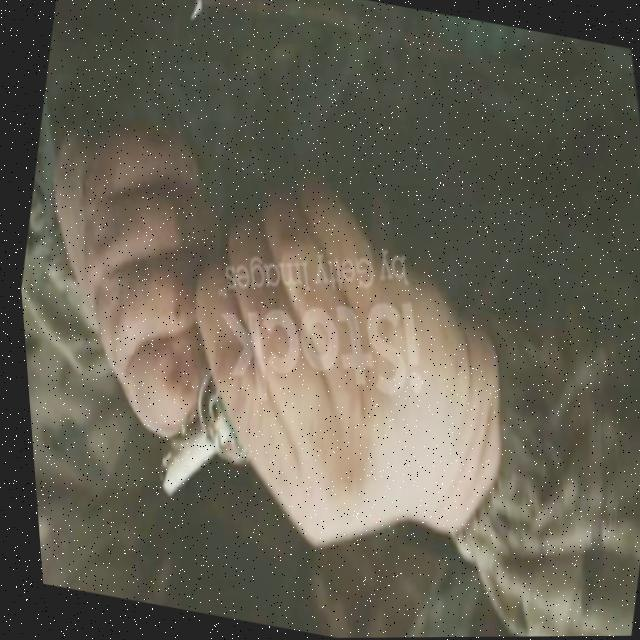grenade: (106, 356, 267, 520)
